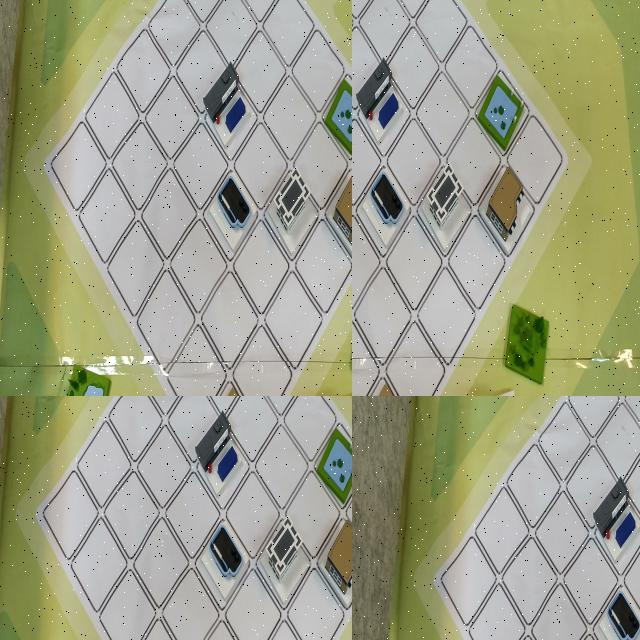bus_stop: (85, 396, 164, 473), (588, 466, 640, 573), (200, 62, 255, 150), (352, 113, 381, 209)
factory: (258, 261, 314, 360), (285, 567, 352, 640)
fish_pool: (142, 402, 216, 508), (352, 186, 380, 282), (322, 71, 352, 158)
forest: (196, 273, 253, 363), (352, 345, 383, 396)
gogo_shop: (198, 164, 252, 258), (126, 396, 192, 439), (352, 51, 379, 144), (597, 582, 640, 640)
research_build: (383, 250, 440, 361), (260, 56, 316, 150), (178, 396, 246, 455)
restaurant: (230, 396, 305, 477), (375, 94, 430, 185), (263, 144, 313, 242)
silicate_rock: (106, 569, 198, 640), (236, 325, 291, 396)
volunteer_center: (136, 270, 191, 371), (352, 266, 379, 366), (267, 396, 322, 444)
wet_land: (209, 533, 297, 640), (134, 170, 191, 260), (368, 45, 432, 122)
